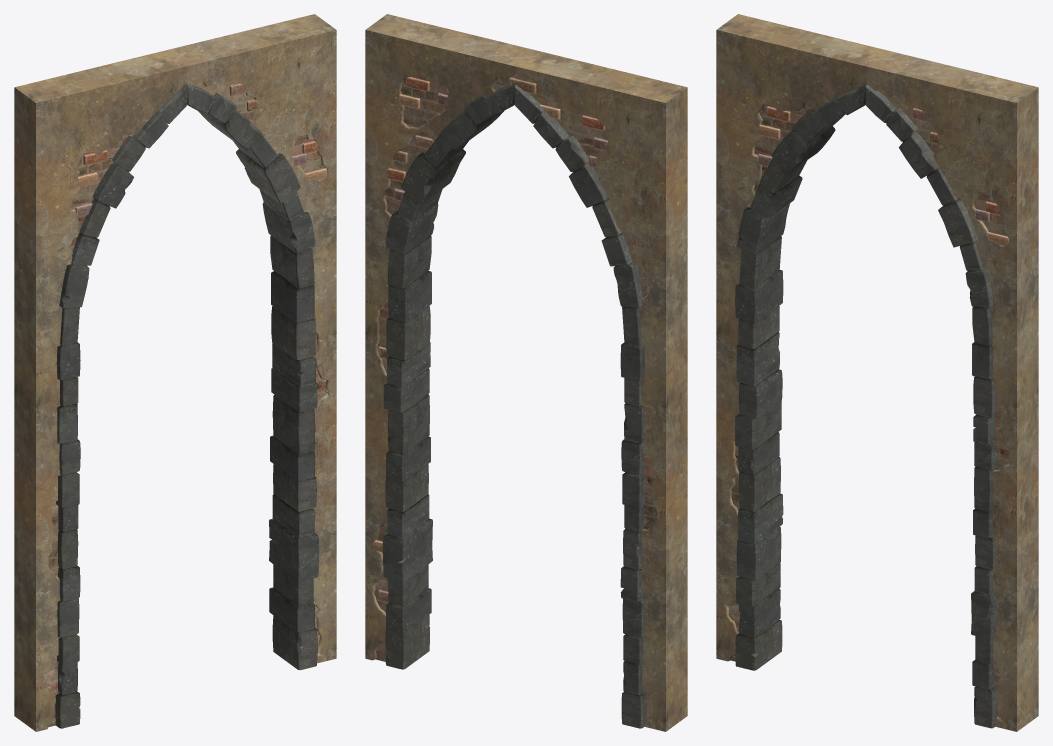
3 views of the same model, side by side, from view 1: azimuth 30°, elevation 25°; view 2: azimuth 150°, elevation 25°; view 3: azimuth 330°, elevation 25° (orthographic).
Parts seen in each view (by area): view 1: SM_Human_Ruins_Arch_02_v2_LOD0; view 2: SM_Human_Ruins_Arch_02_v2_LOD0; view 3: SM_Human_Ruins_Arch_02_v2_LOD0.
Boxes of the visible parts, x1,y1,x2,y2 form: SM_Human_Ruins_Arch_02_v2_LOD0: [14, 14, 336, 731]; SM_Human_Ruins_Arch_02_v2_LOD0: [365, 14, 687, 731]; SM_Human_Ruins_Arch_02_v2_LOD0: [716, 14, 1038, 731].
Bounding box in the file's own units: 4 × 8 × 0.6907.
4 materials, 4 textured.
